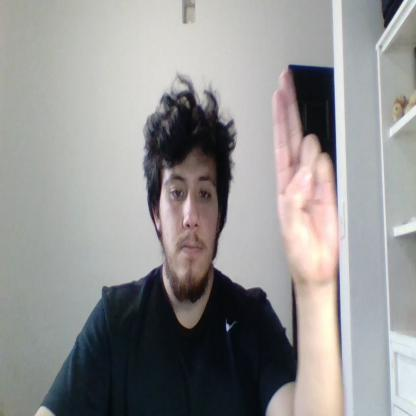U: (273, 70, 339, 282)
